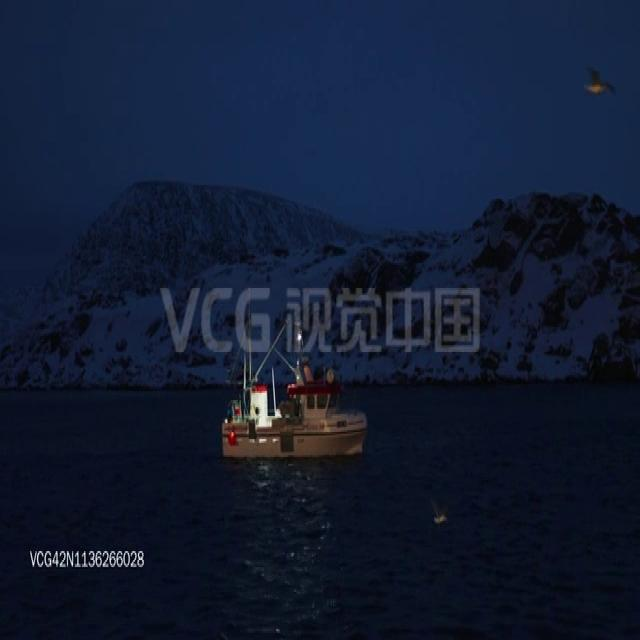houseboat: (209, 323, 370, 456)
